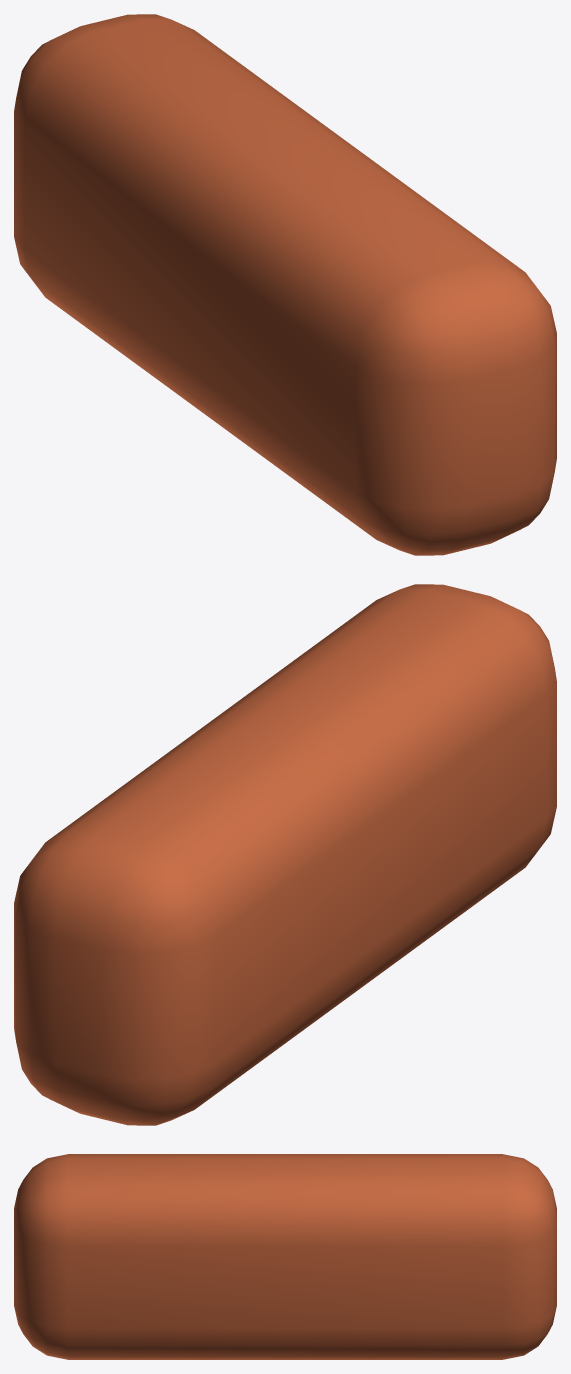
File: hot_melt_glue_gun_feed_trigger.glb
3 views of the same model, one above another, from view 1: azimuth 30°, elevation 25°; view 2: azimuth 150°, elevation 25°; view 3: azimuth 270°, elevation 25° (orthographic). The views are drawn at different scales.
Visible parts, largest first — view 1: hot_melt_glue_gun_feed_trigger; view 2: hot_melt_glue_gun_feed_trigger; view 3: hot_melt_glue_gun_feed_trigger.
Boxes of the visible parts, left/top/right/bottom form: hot_melt_glue_gun_feed_trigger: left=14, top=14, right=556, bottom=555; hot_melt_glue_gun_feed_trigger: left=14, top=584, right=556, bottom=1125; hot_melt_glue_gun_feed_trigger: left=14, top=1154, right=556, bottom=1359.
Size of the model in its own units: 0.016 by 0.022 by 0.06.
